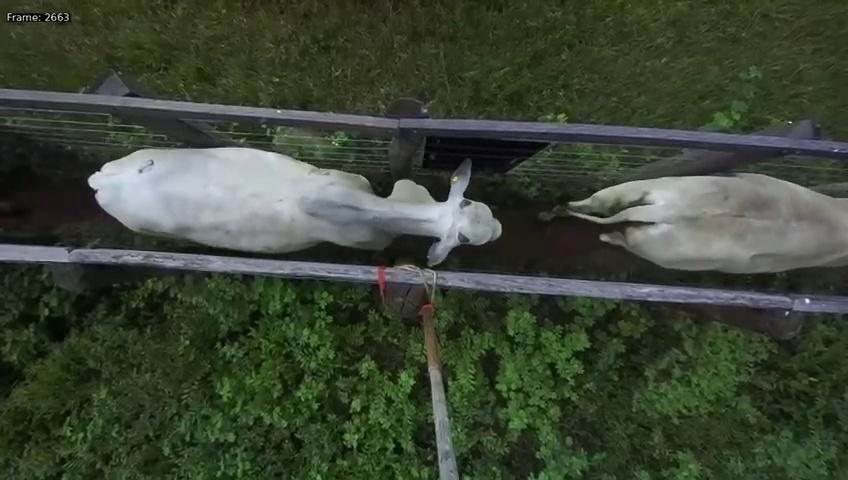cattle: (79, 139, 505, 268)
